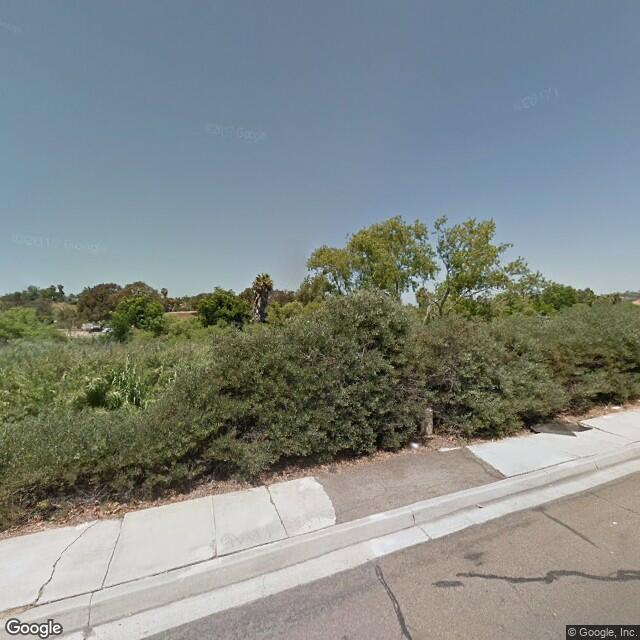litter: (411, 440, 422, 450), (609, 403, 620, 411), (474, 504, 484, 511)
